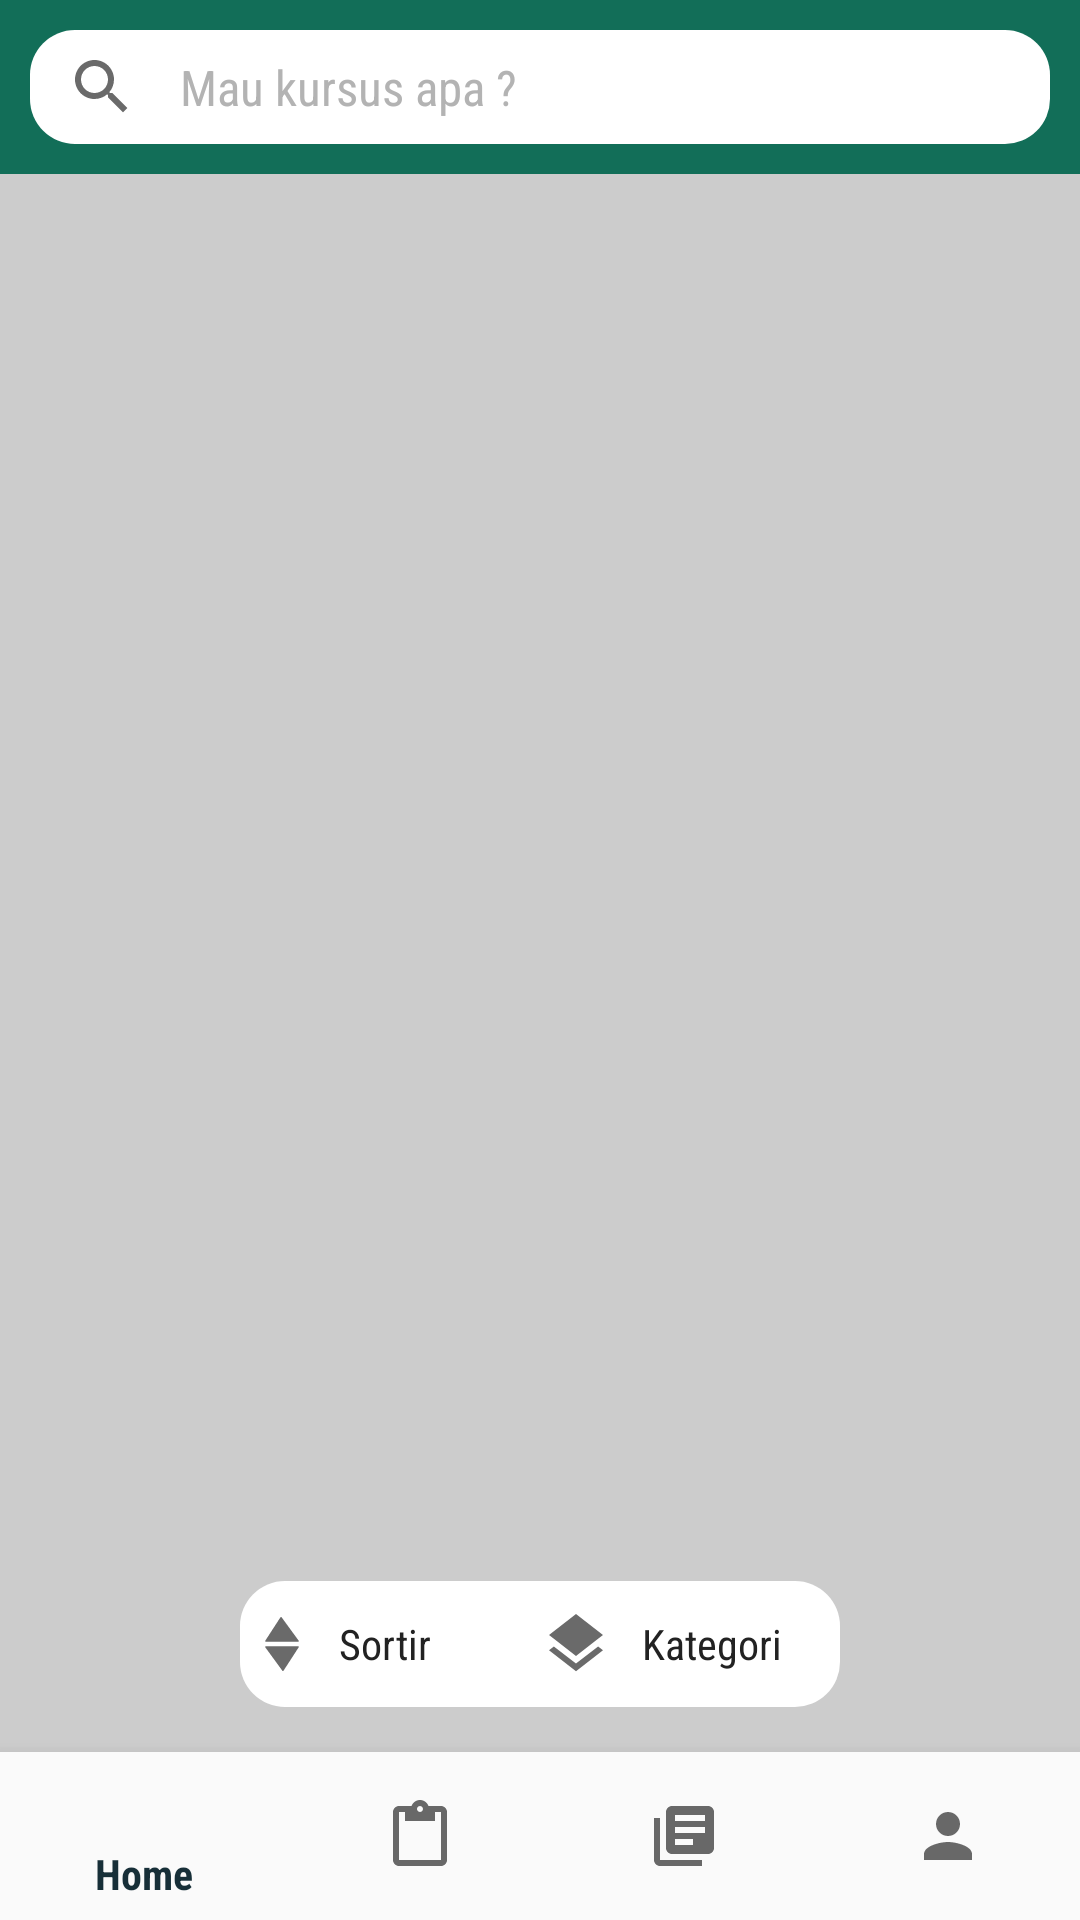

Where icons sit on this 1080px x 1920px app screen, as (x1, y1, x2, y2):
search: (75, 60, 127, 112)
